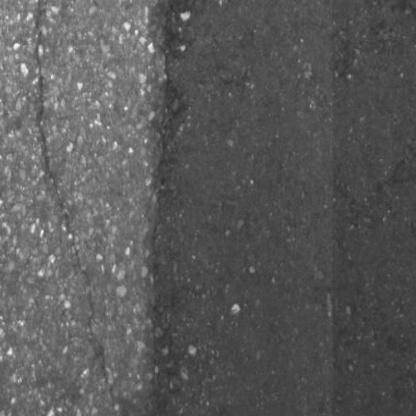Cracks: (29, 0, 120, 405)
